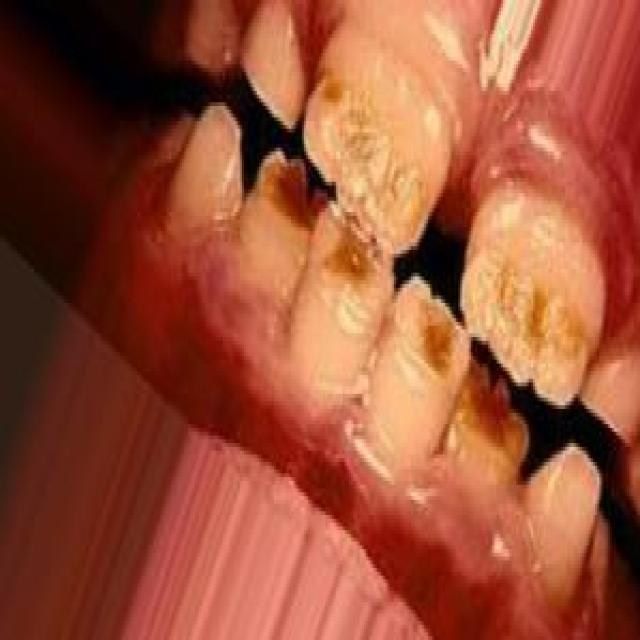caries: (302, 83, 430, 259), (468, 261, 584, 408), (392, 272, 467, 383), (310, 195, 387, 303), (456, 358, 528, 467), (254, 140, 317, 238)
